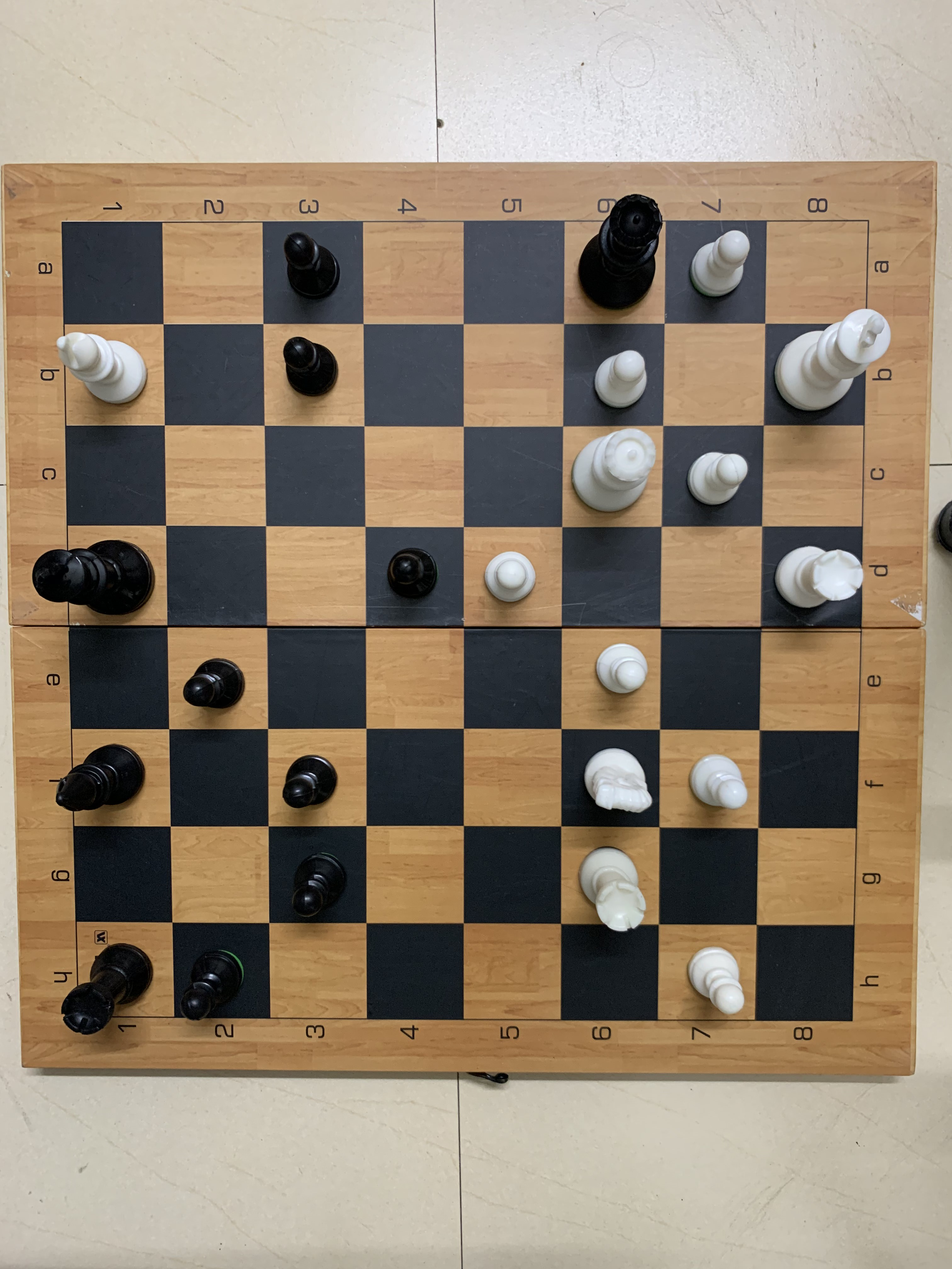black_bishop: (41, 735, 161, 819)
black_king: (25, 521, 162, 632)
black_queen: (564, 186, 671, 319)
black_rook: (50, 940, 161, 1034), (173, 940, 265, 1031), (268, 326, 354, 416), (170, 636, 261, 718), (274, 839, 356, 929), (375, 531, 456, 621), (269, 222, 348, 312), (271, 737, 351, 819)
white_bishop: (46, 323, 162, 429)
white_king: (771, 301, 900, 415)
white_knight: (573, 738, 657, 824)
white_pawn: (674, 433, 760, 527), (672, 927, 759, 1019), (575, 627, 657, 720), (671, 742, 759, 823), (576, 336, 658, 417), (680, 222, 756, 309), (472, 539, 553, 619)
white_queen: (564, 424, 663, 518)
white_rook: (768, 531, 866, 625), (570, 834, 655, 935)
